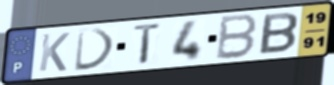4: (169, 18, 206, 63)
B: (213, 12, 260, 61), (256, 11, 300, 57)
D: (73, 27, 118, 74)
K: (36, 31, 72, 74)
T: (131, 21, 165, 68)
